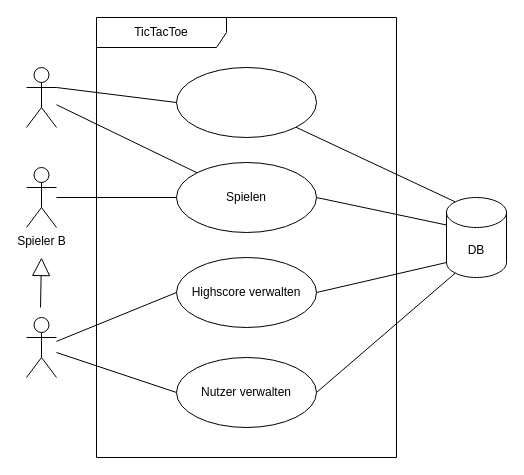
Some shapes in this 524 by 475 pixel diagram are drawn without their labels. The shapes that lost their labels are listed below. From the top down, each one's box as (x1, y1, x2, y2) in pixels, then its label:
(26, 66, 56, 128): Spieler A
(176, 66, 316, 138): Highscore anschauen
(26, 316, 56, 378): Admin
